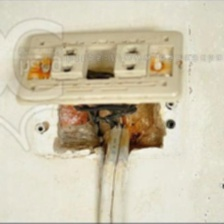three_eye_plug: (10, 21, 190, 115)
